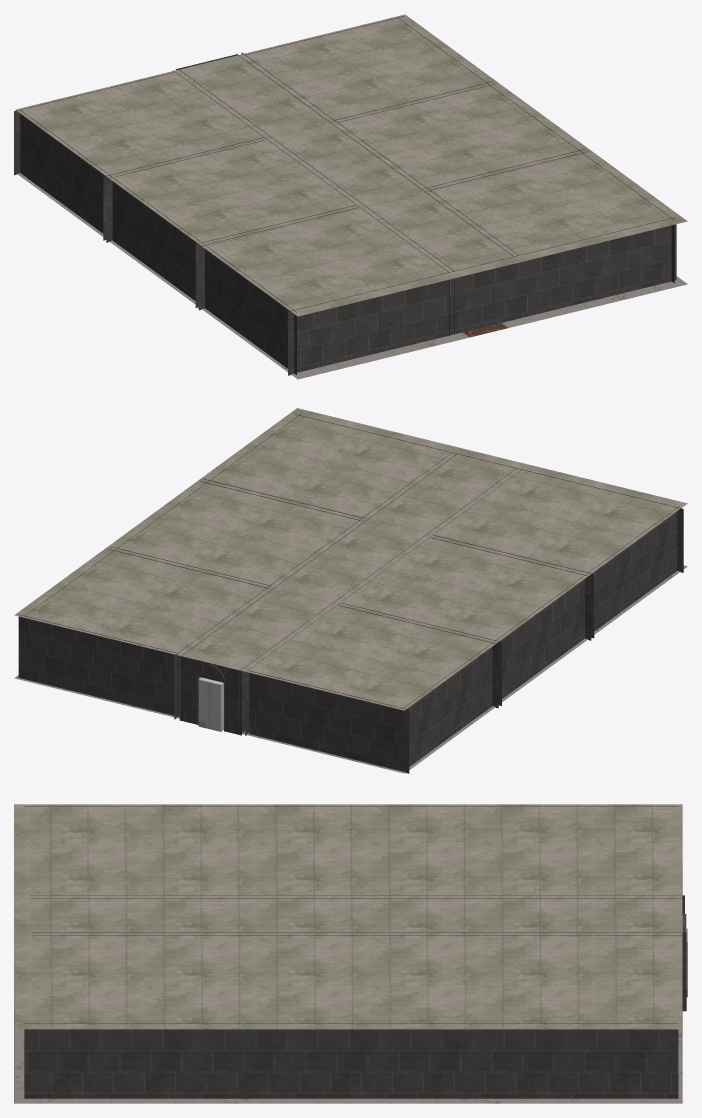
File: apartment_composite.fbx
3 views of the same model, one above another, from view 1: azimuth 30°, elevation 25°; view 2: azimuth 150°, elevation 25°; view 3: azimuth 270°, elevation 25° (orthographic). The views are drawn at different scales.
Visible parts, largest first — view 1: aprt _wall.001; view 2: aprt _wall.001, elevator_doors; view 3: aprt _wall.001.
Part boxes in pixels (bbox=[...]): aprt _wall.001: bbox=[14, 14, 687, 379]; aprt _wall.001: bbox=[14, 408, 687, 773]; elevator_doors: bbox=[198, 678, 222, 731]; aprt _wall.001: bbox=[14, 804, 686, 1103].
Size of the model in its own units: 1469 by 248 by 1846.
